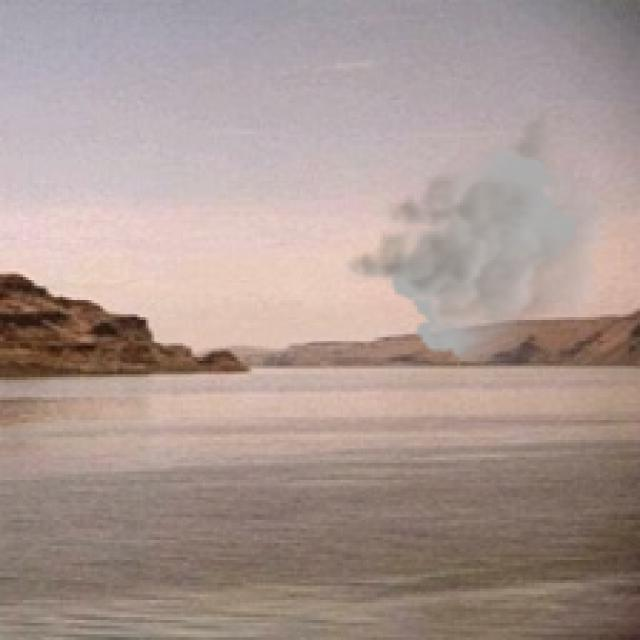smoke: (337, 111, 614, 366)
